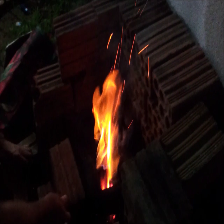fire_h: (92, 68, 124, 190)
fire_l: (129, 33, 136, 64), (114, 44, 120, 68), (106, 32, 113, 47), (139, 44, 149, 54), (147, 56, 150, 78), (128, 119, 133, 128), (112, 214, 115, 219)
